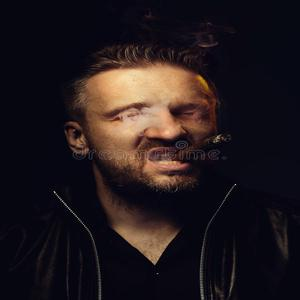cigarette: (171, 132, 231, 163)
